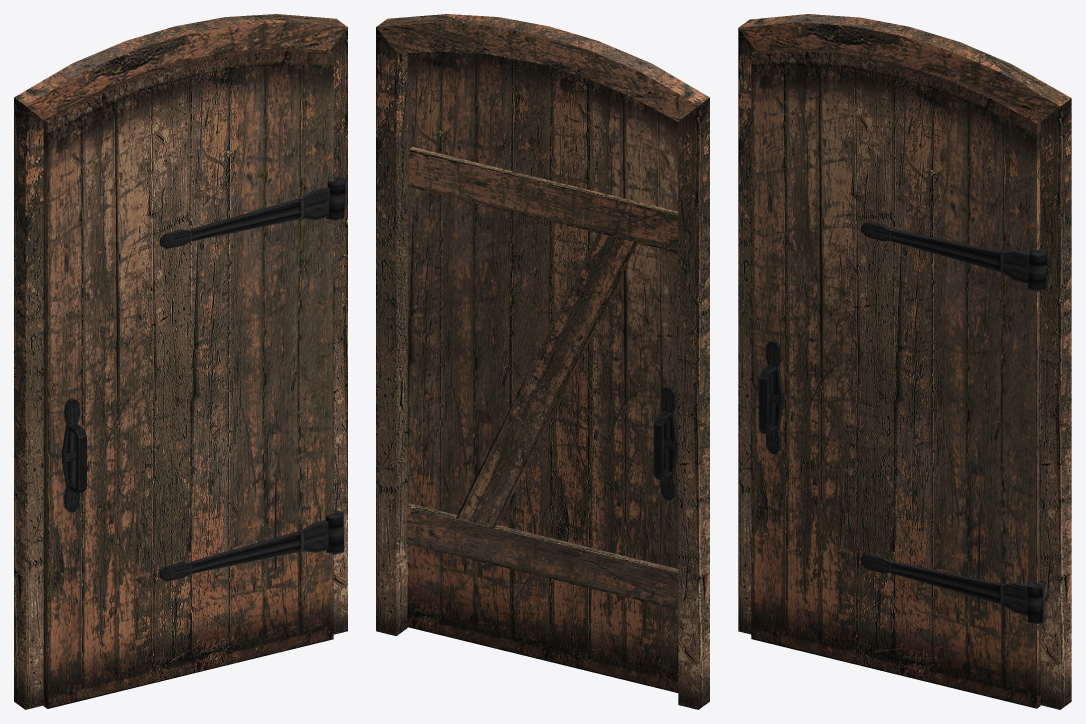
File: factory_corridor_01_door_01.DAE
The picture shows the model from 3 angles, left to right: view 1: azimuth 30°, elevation 25°; view 2: azimuth 150°, elevation 25°; view 3: azimuth 330°, elevation 25°; orthographic projection.
Parts seen in each view (by area): view 1: Box085, Box087, Box084, Box086, Object051; view 2: Box085, Box087, Box086; view 3: Box085, Box087, Box084, Box086, Object051.
Boxes of the visible parts, box(x1,y1,x2,y2) form: Box085: box(43, 48, 333, 708); Box087: box(14, 14, 347, 709); Box084: box(159, 187, 330, 581); Box086: box(62, 398, 86, 512); Object051: box(325, 176, 345, 554); Box085: box(406, 51, 678, 692); Box087: box(376, 14, 709, 709); Box086: box(653, 386, 678, 500); Box085: box(751, 48, 1040, 708); Box087: box(738, 14, 1071, 709); Box084: box(861, 221, 1029, 615); Box086: box(758, 340, 783, 454); Object051: box(1027, 248, 1047, 624).
Size of the model in its own units: 1.84 by 3.46 by 0.2729.
